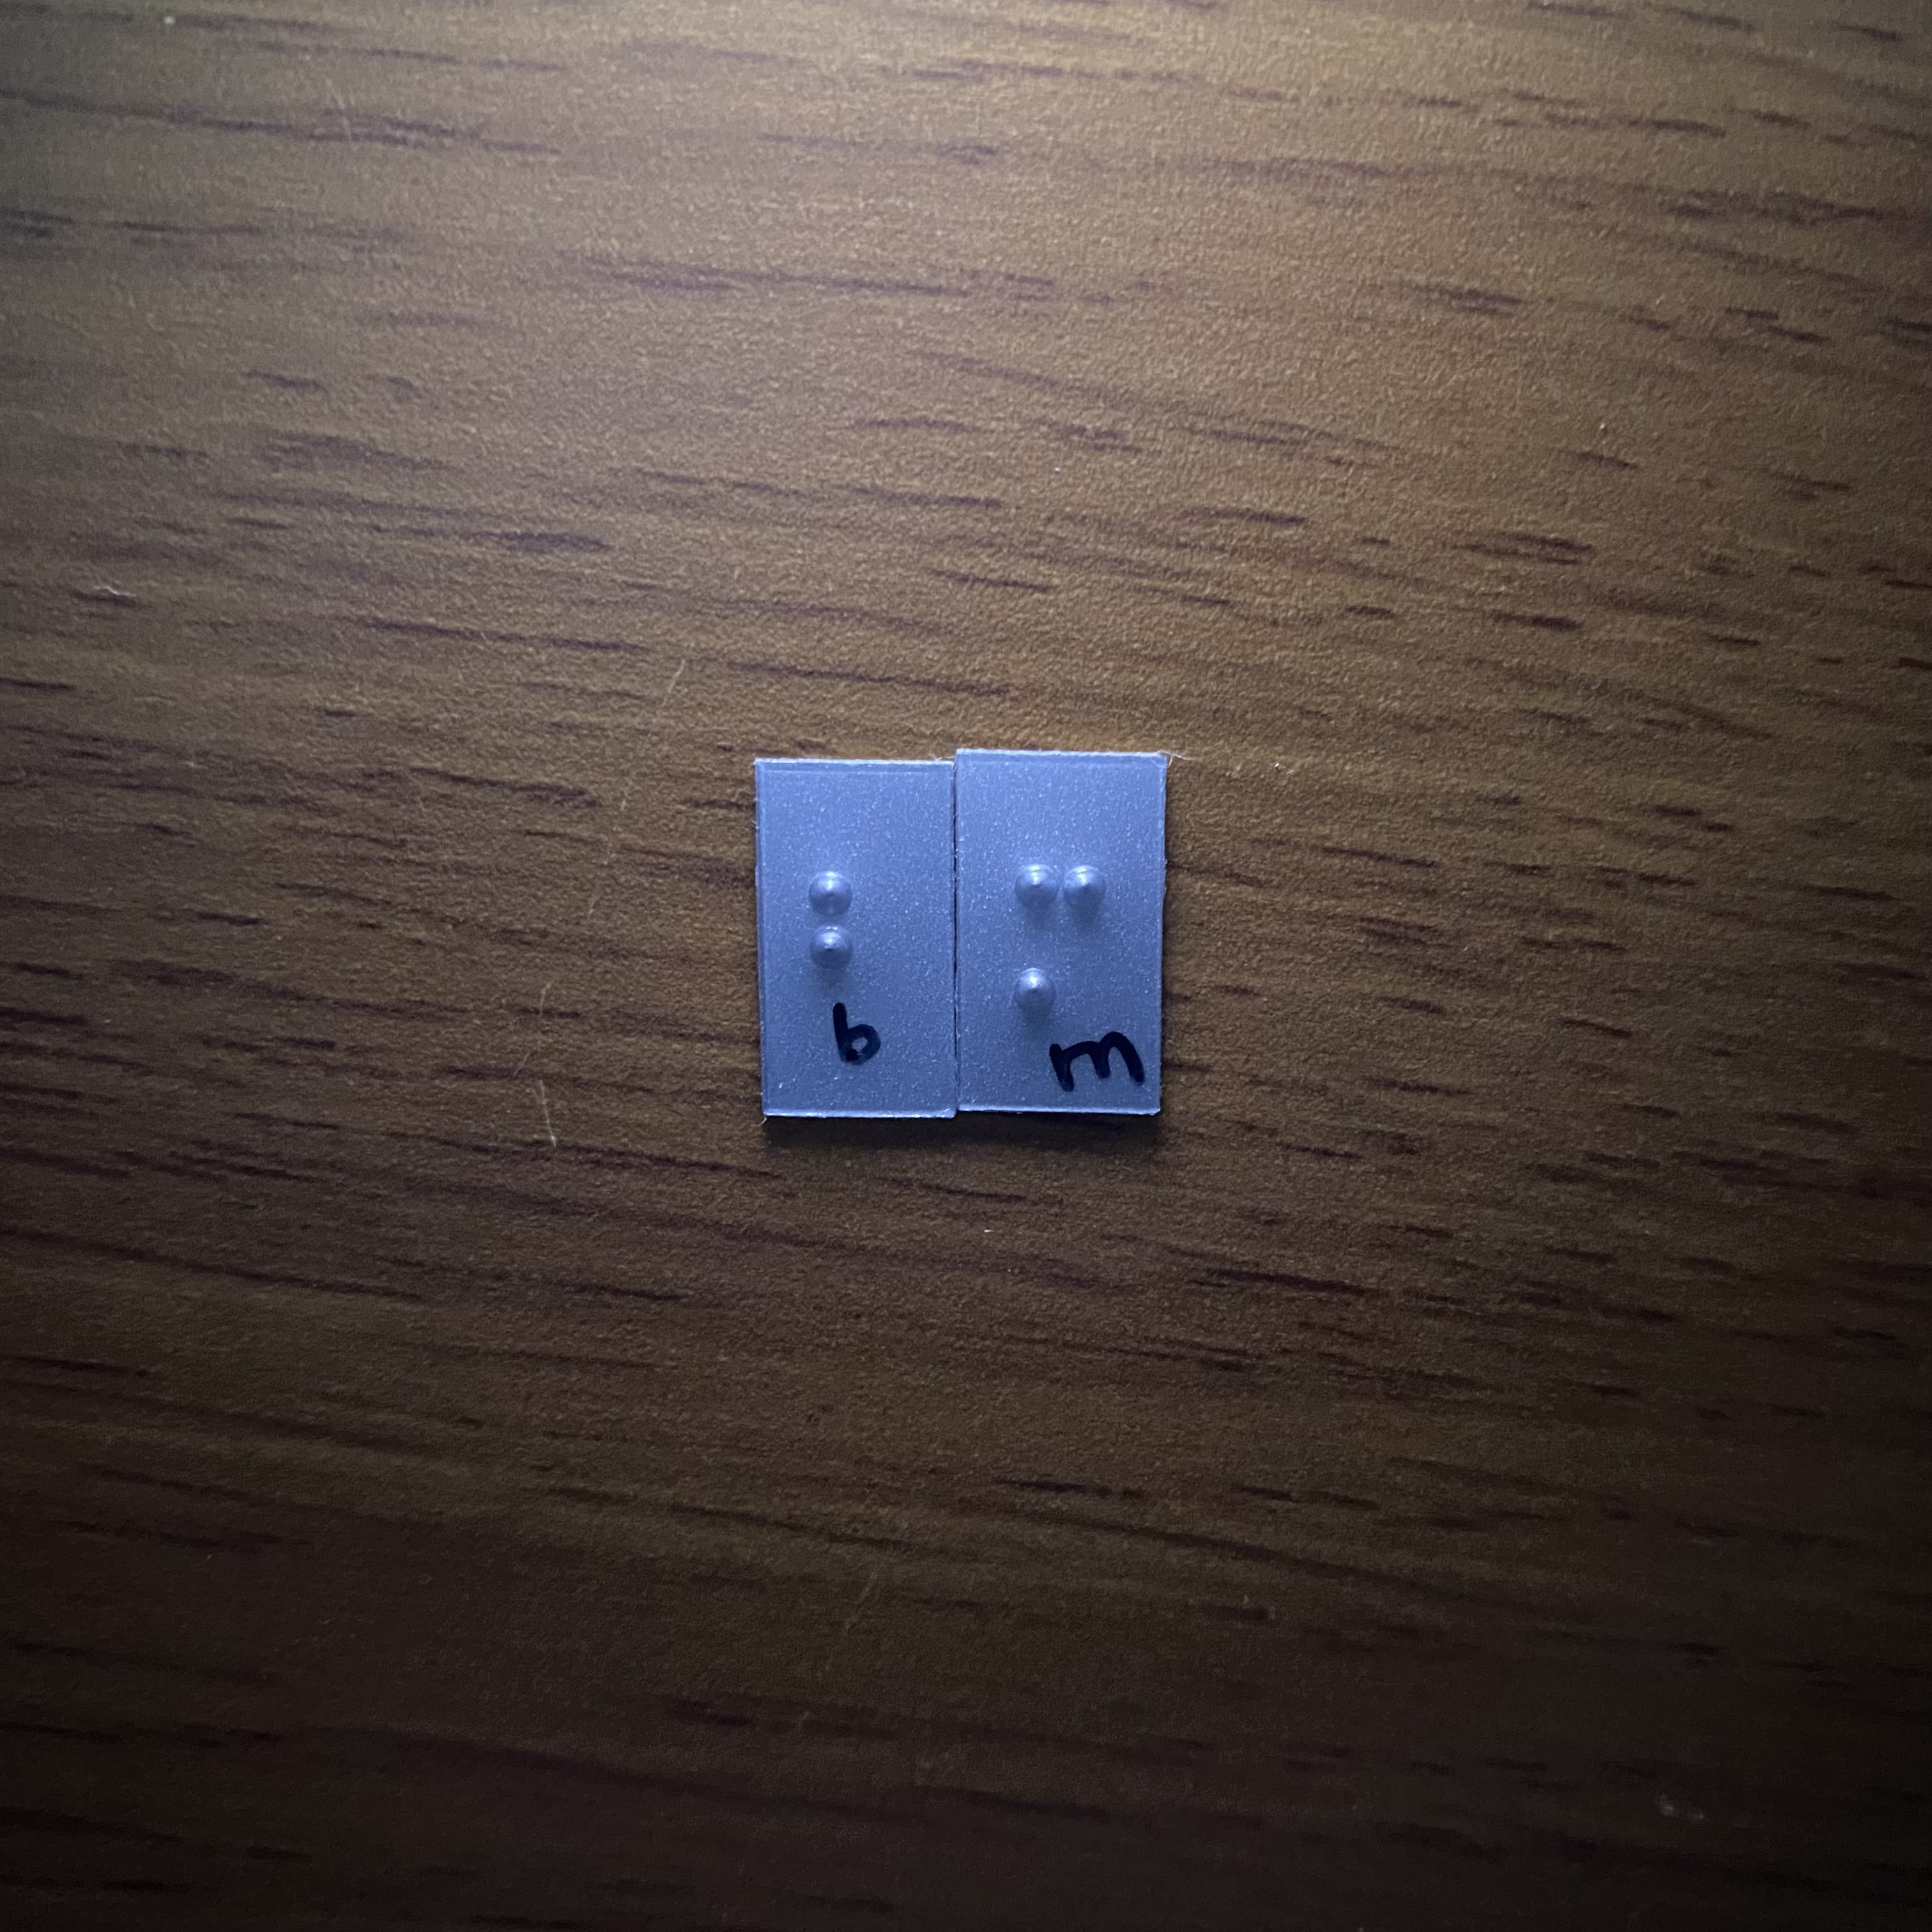b: (796, 852, 919, 1048)
m: (1000, 852, 1124, 1053)
